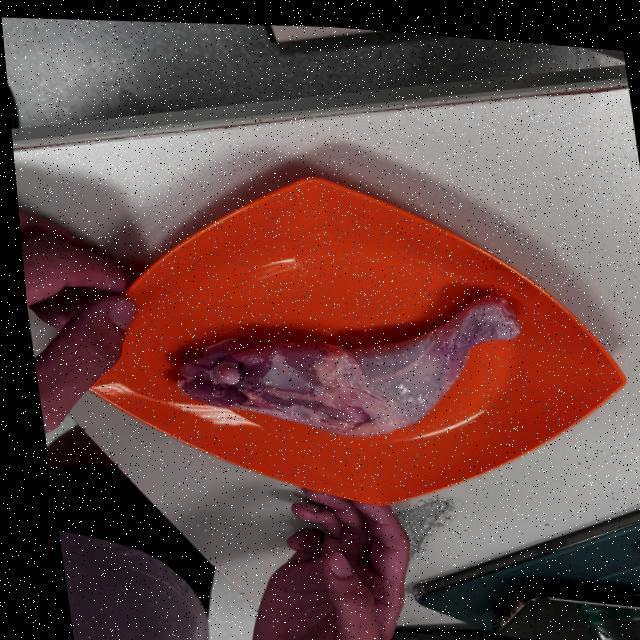quater: (170, 299, 524, 451)
